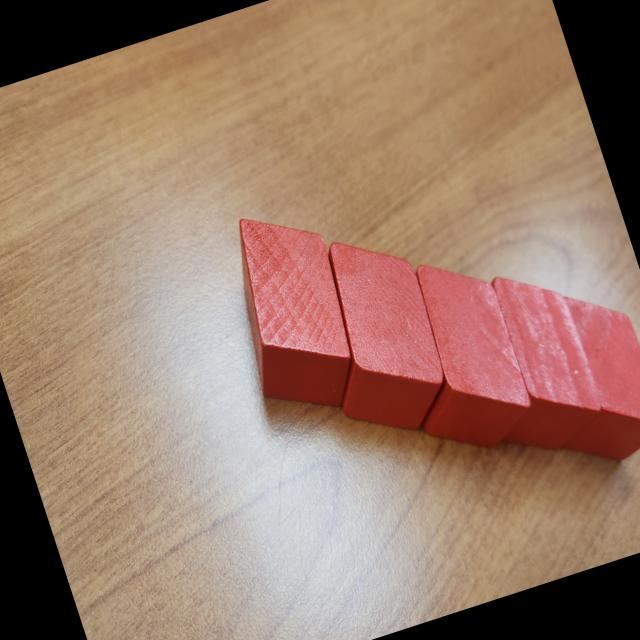red: (292, 222, 463, 452), (209, 196, 376, 430), (375, 244, 543, 469), (452, 257, 612, 468), (517, 276, 640, 478)
